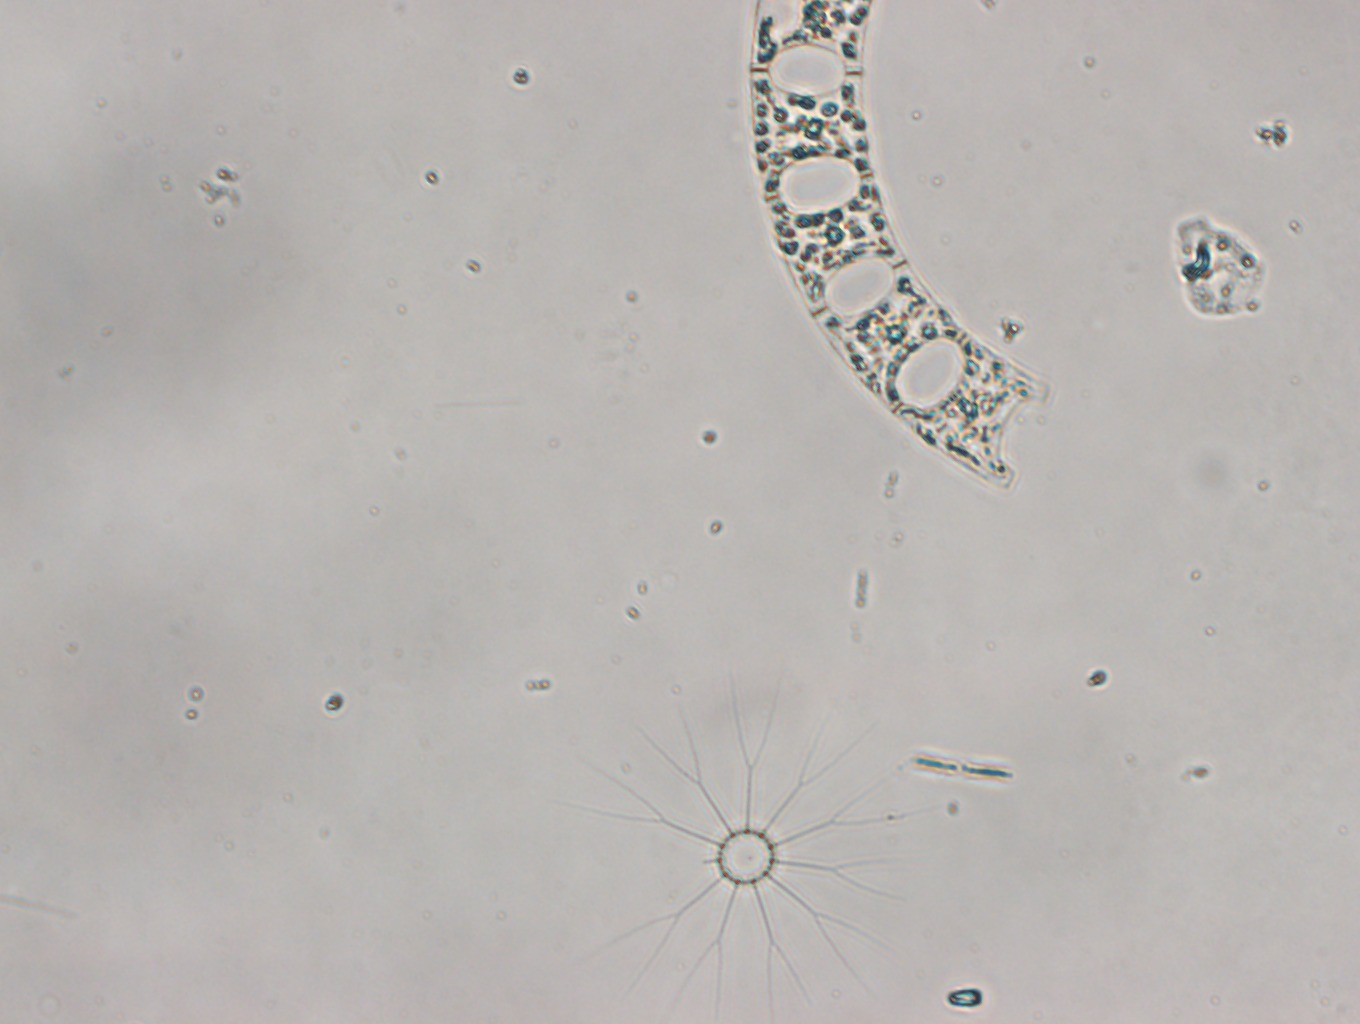bacteriastrum: (566, 675, 931, 1019)
eucampia: (748, 1, 1051, 490)
